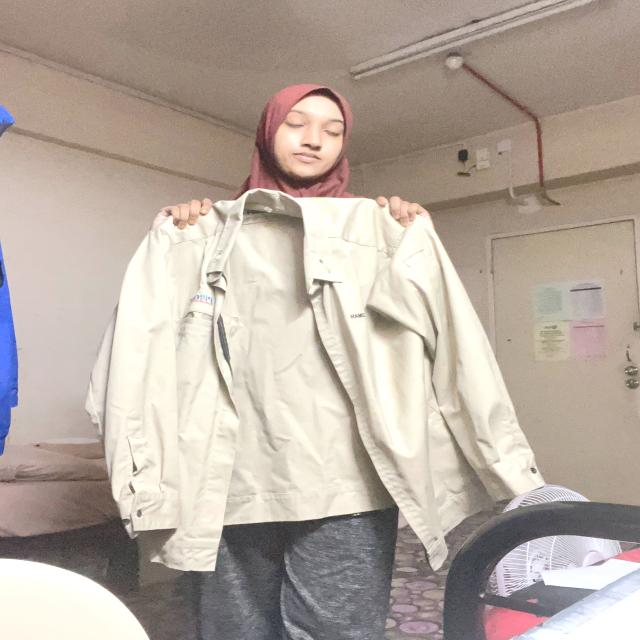person_without_labcoat: (90, 84, 543, 640)
